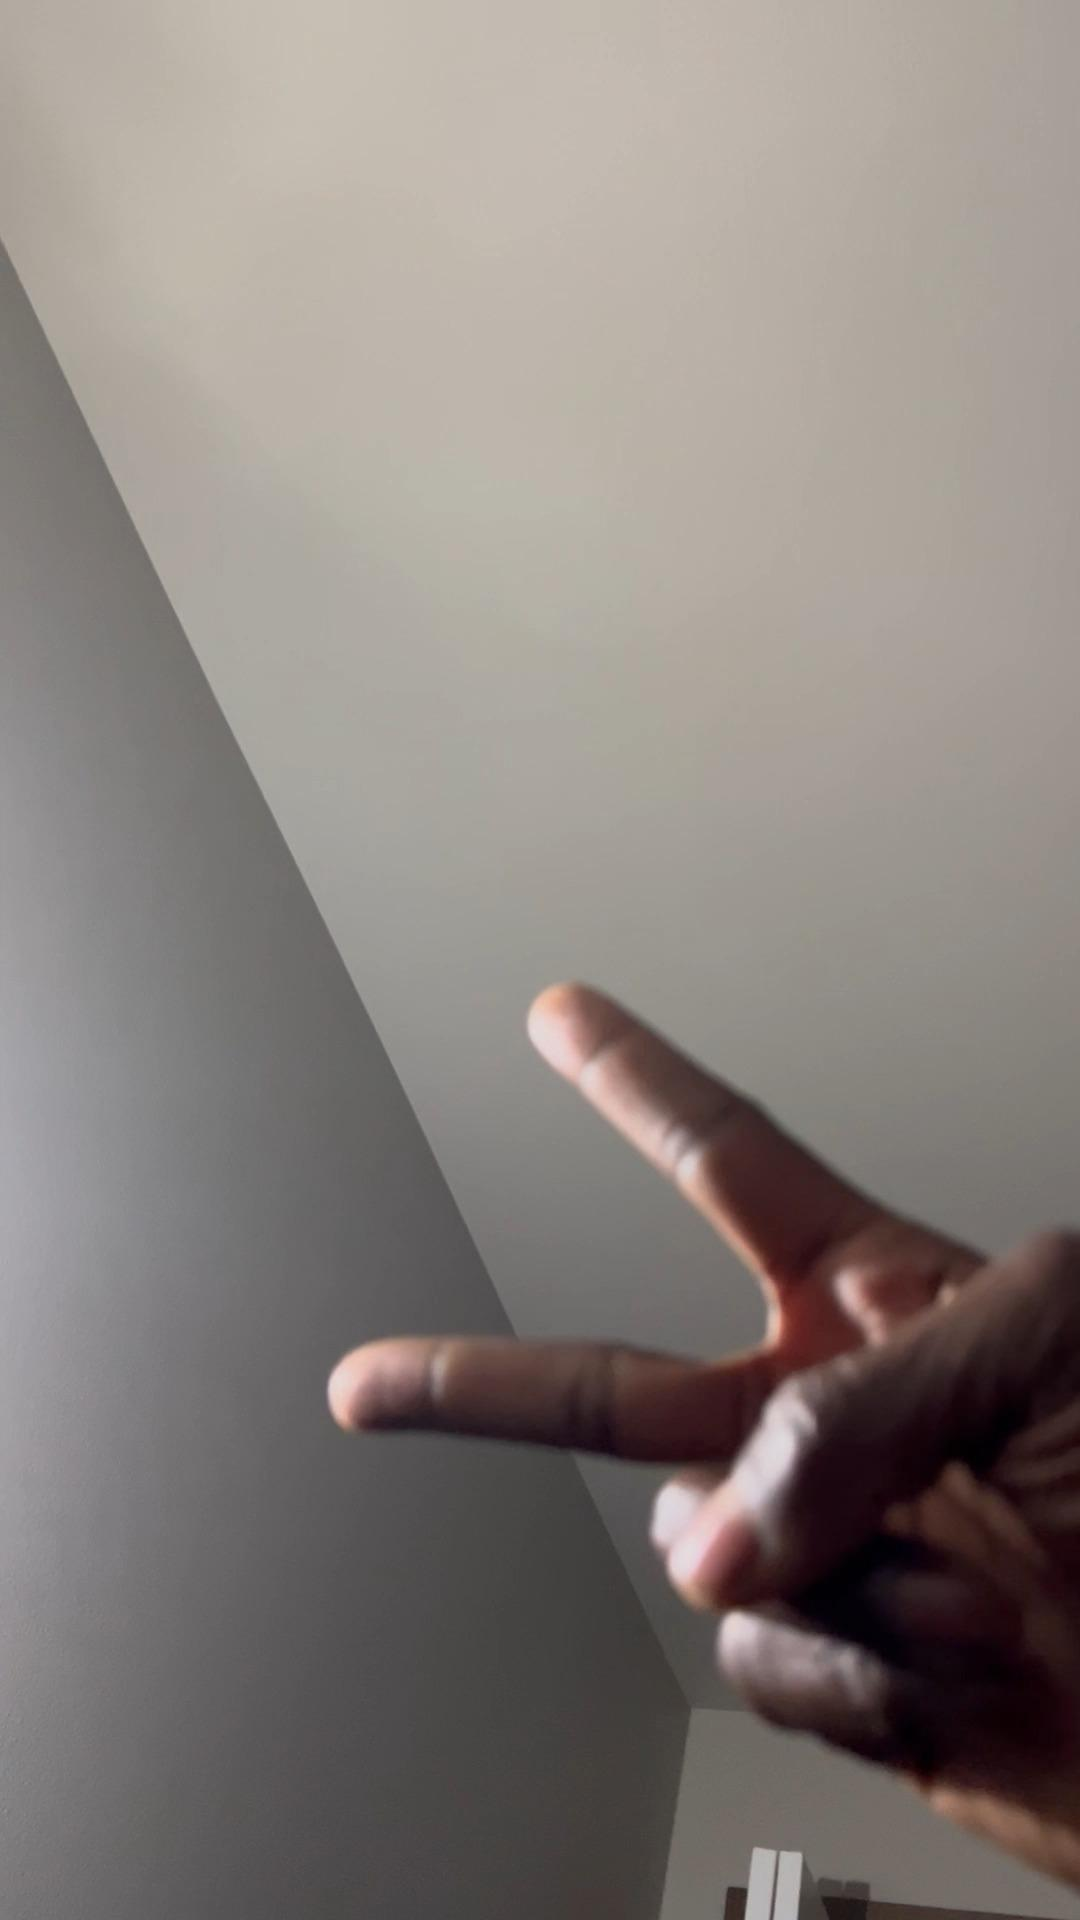Scissors: (323, 973, 1080, 1896)
